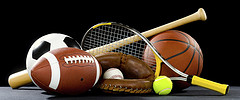tennis ball: (153, 76, 173, 95)
